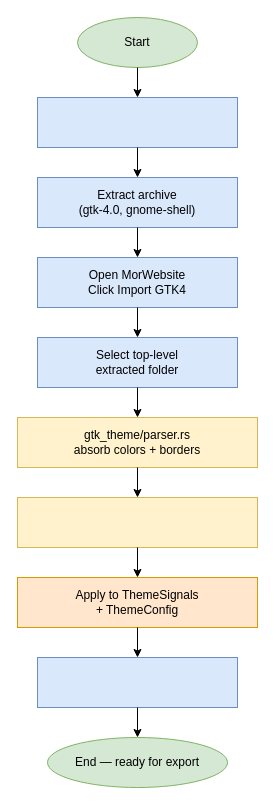
This 275x805 diagram has some shape labels left out. The centre of each missing label's shape, as x and y in pixels:
"Download GTK theme from GNOME-Look.org" goes at (x=137, y=122).
"Save Imported Theme as Preset" goes at (x=137, y=682).
"SVG assets → embedded data URIs" goes at (x=137, y=522).
